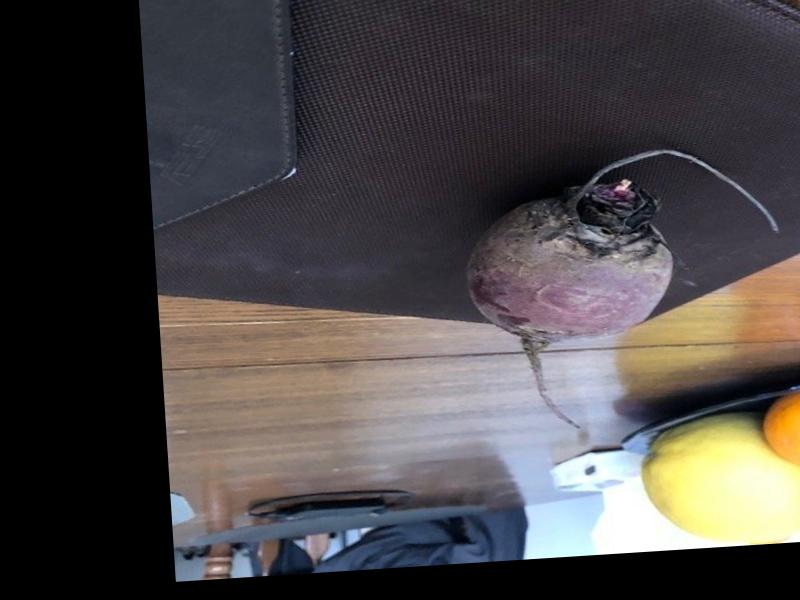Beet: (459, 142, 791, 436)
